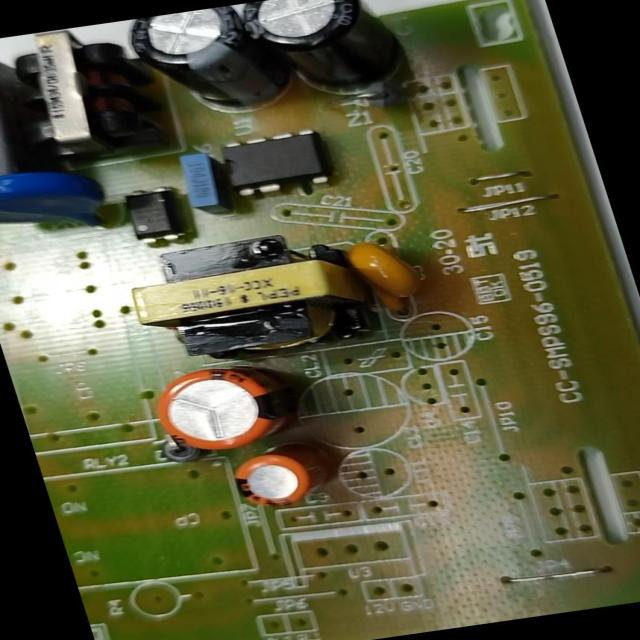Cap1: (121, 355, 310, 465)
Cap2: (213, 434, 359, 520)
Cap3: (121, 2, 297, 133)
Cap4: (226, 0, 429, 123)
MOSFET: (206, 125, 351, 203)
Mov: (0, 153, 125, 248)
Transformer: (105, 217, 404, 380), (0, 19, 179, 174)
